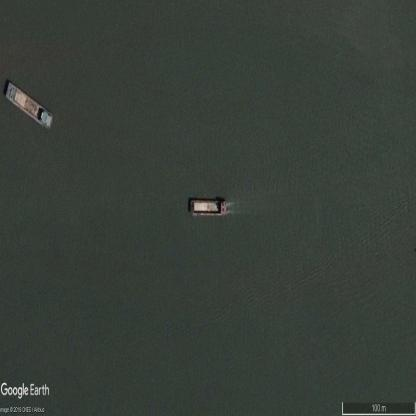ship: (4, 81, 52, 135), (189, 197, 229, 218)
